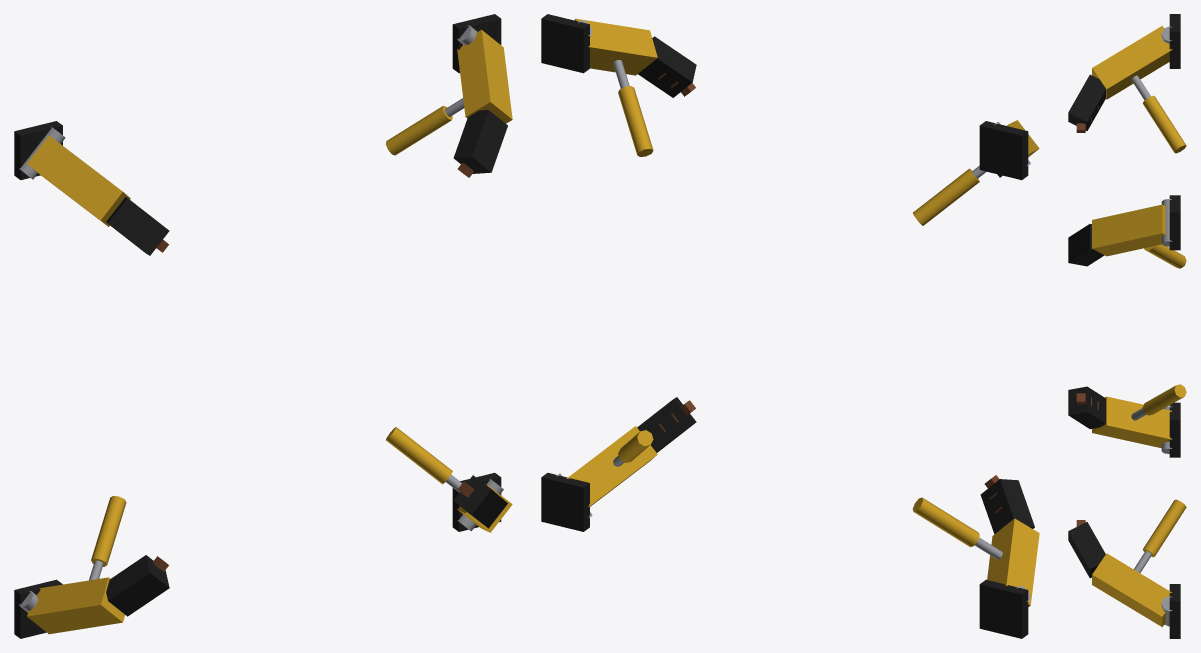
Rendered from trh_clamp.obj.
3 renders of one model, left to right at view 1: azimuth 30°, elevation 25°; view 2: azimuth 150°, elevation 25°; view 3: azimuth 270°, elevation 25°, orthographic. The views are drawn at different scales.
Parts seen in each view (by area): view 1: trh_clamp; view 2: trh_clamp; view 3: trh_clamp.
Boxes of the visible parts, x1,y1,x2,y2 form: trh_clamp: (14,14,512,638); trh_clamp: (541,14,1039,638); trh_clamp: (1068,14,1186,638).
Bounding box in the file's own units: 5.24 × 5.24 × 1.31.
